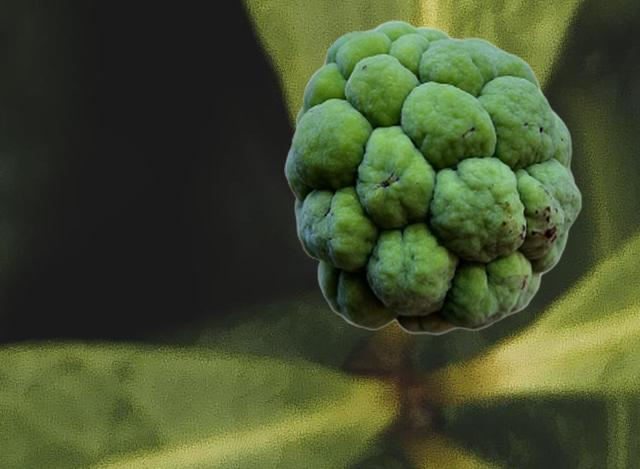atis: (284, 19, 581, 335)
